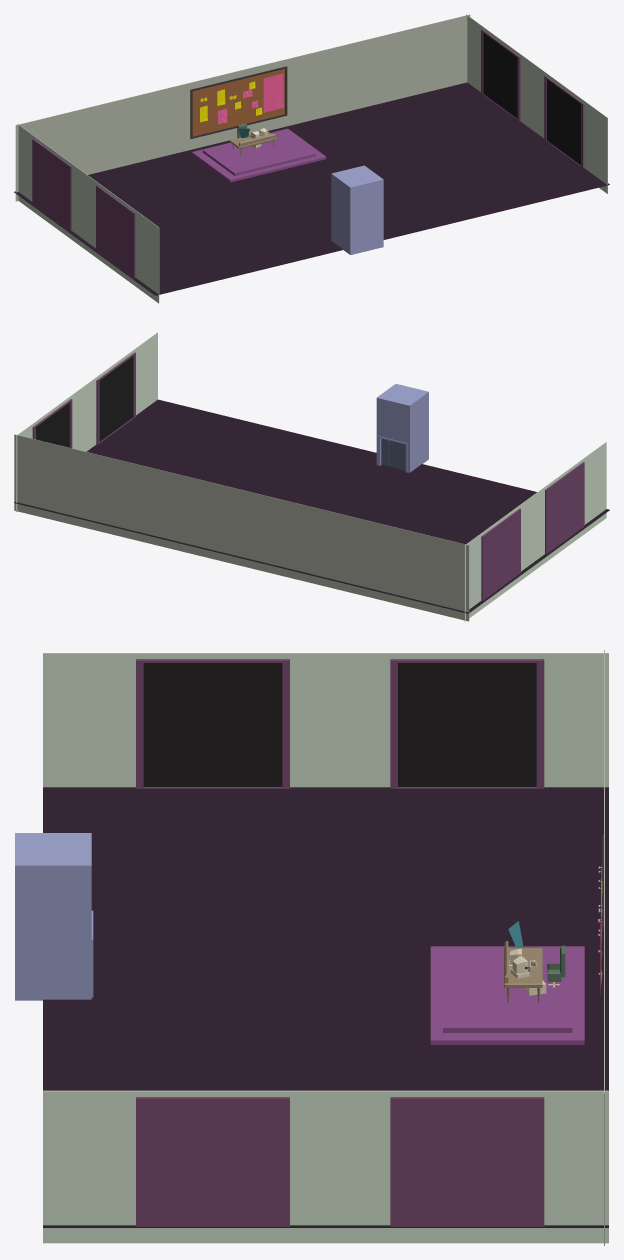
File: Floor4_ContextII.fbx
3 views of the same model, one above another, from view 1: azimuth 30°, elevation 25°; view 2: azimuth 150°, elevation 25°; view 3: azimuth 270°, elevation 25° (orthographic). The views are drawn at different scales.
Visible parts, largest first — view 1: Cube.100, Cube.099, Cube.098, Cubicle one object.045, Cube.118, Cube.091, Cube.101, Cube.107, Cube.106, Cube.105, Cube.112, Cubicle one object.032; view 2: Cube.099, Cube.100, Cube.098, Cube.118, Cube.091, Cube.107, Cube.112, Cube.105, Cube.106; view 3: Cube.100, Cube.118, Cube.098, Cube.112, Cube.106, Cube.105, Cube.107, Cube.101, Cube.091, Cubicle one object.032.
Boxes of the visible parts, left/top/right/bottom form: Cube.100: left=14, top=82, right=609, bottom=295; Cube.099: left=15, top=14, right=470, bottom=201; Cube.098: left=17, top=124, right=159, bottom=303; Cubicle one object.045: left=190, top=66, right=287, bottom=138; Cube.118: left=466, top=14, right=607, bottom=193; Cube.091: left=331, top=165, right=383, bottom=254; Cube.101: left=191, top=128, right=326, bottom=182; Cube.107: left=544, top=76, right=584, bottom=168; Cube.106: left=481, top=29, right=520, bottom=121; Cube.105: left=96, top=185, right=135, bottom=277; Cube.112: left=32, top=138, right=71, bottom=231; Cubicle one object.032: left=229, top=123, right=276, bottom=155; Cube.099: left=14, top=434, right=469, bottom=621; Cube.100: left=14, top=399, right=609, bottom=613; Cube.098: left=464, top=442, right=606, bottom=621; Cube.118: left=16, top=332, right=157, bottom=511; Cube.091: left=376, top=384, right=428, bottom=472; Cube.107: left=96, top=352, right=135, bottom=444; Cube.112: left=481, top=508, right=520, bottom=600; Cube.105: left=545, top=462, right=584, bottom=554; Cube.106: left=32, top=399, right=72, bottom=448; Cube.100: left=43, top=787, right=608, bottom=1227; Cube.118: left=43, top=1090, right=608, bottom=1243; Cube.098: left=43, top=653, right=608, bottom=787; Cube.112: left=390, top=659, right=544, bottom=788; Cube.106: left=390, top=1097, right=544, bottom=1226; Cube.105: left=136, top=659, right=289, bottom=788; Cube.107: left=136, top=1097, right=289, bottom=1226; Cube.101: left=430, top=946, right=584, bottom=1044; Cube.091: left=15, top=833, right=93, bottom=1000; Cubicle one object.032: left=504, top=941, right=565, bottom=1003.
Size of the model in its own units: 1365 by 218 by 772.
